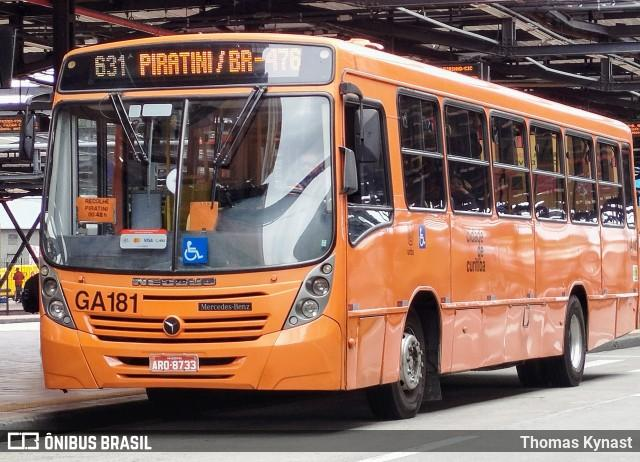PIRATINI: (132, 47, 220, 82)
